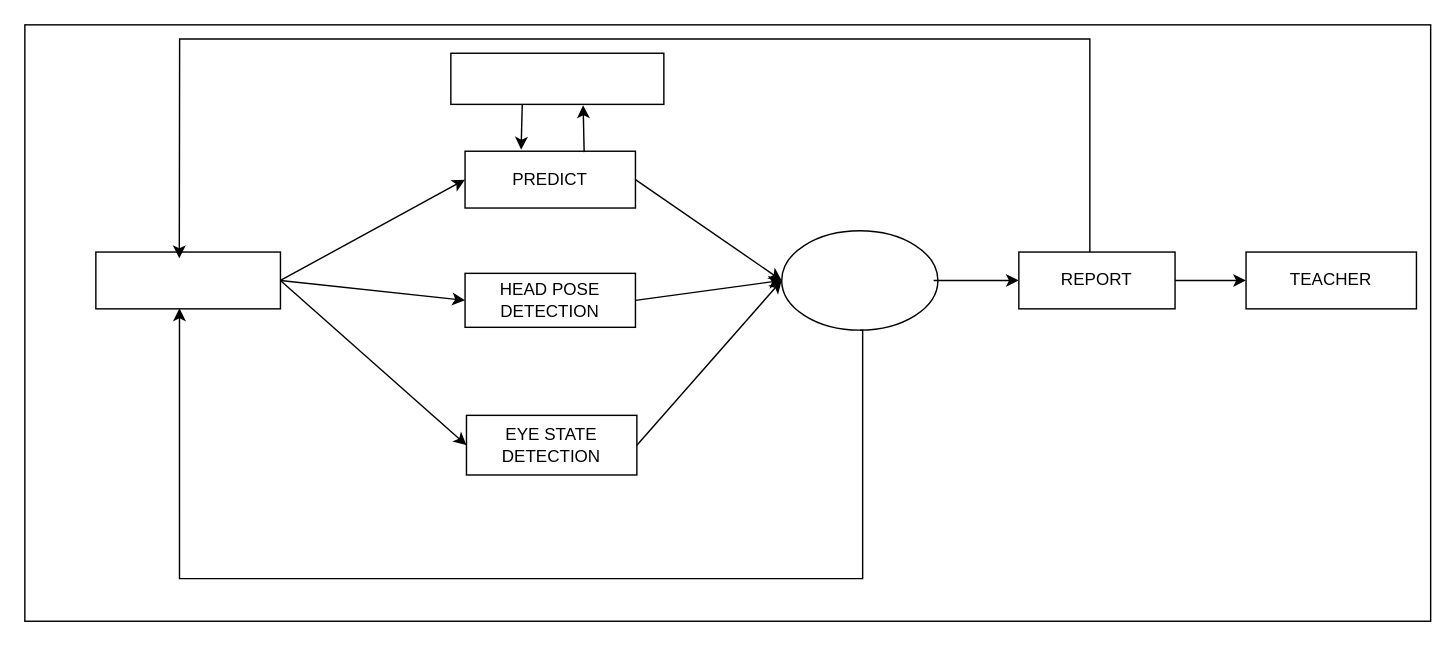
This 1456x646 diagram has some shape labels left out. The shapes that lost their labels are listed below. From the top down, each one's centre as x and y in pixels, then its label:
the point at 556,78: EMOTION DETECTION MODEL
the point at 187,280: STUDENT
the point at 859,279: ANALYSIS
